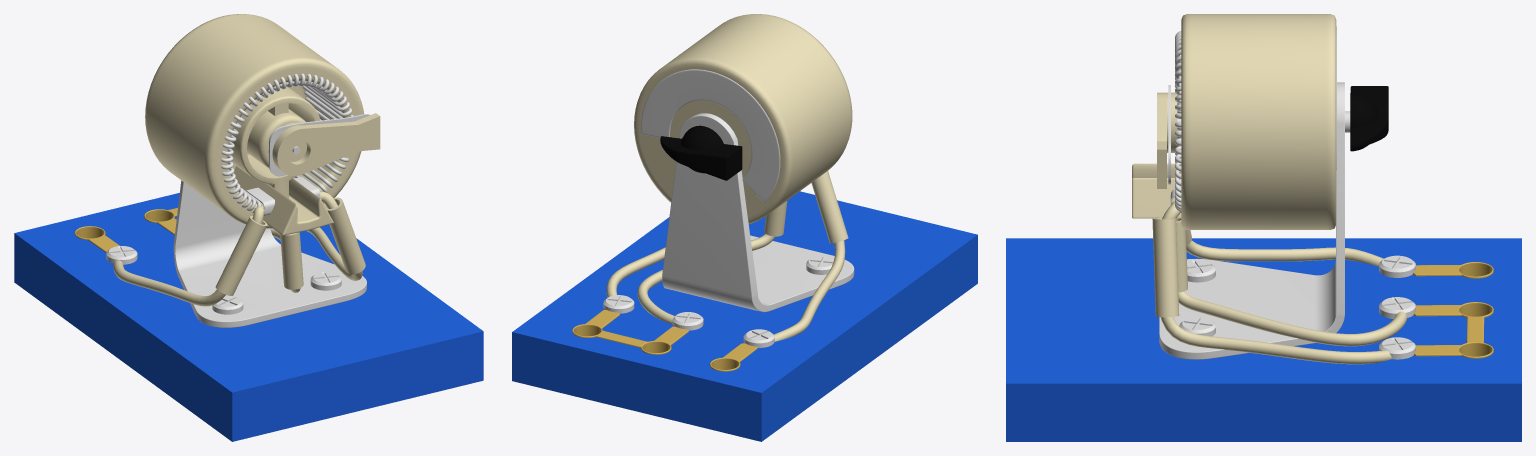
File: ResistanceBox.fbx
The picture shows the model from 3 angles, left to right: view 1: azimuth 30°, elevation 25°; view 2: azimuth 150°, elevation 25°; view 3: azimuth 270°, elevation 25°; orthographic projection. The views are drawn at different scales.
Visible parts, largest first — view 1: Cutter.002_Plate.008, Cube.007, Cylinder.027; view 2: Cutter.002_Plate.008, Cube.007, Cylinder.021, Cylinder.027; view 3: Cutter.002_Plate.008, Cube.007, Cylinder.027.
Boxes of the visible parts, left/top/right/bottom form: Cutter.002_Plate.008: left=14, top=193, right=483, bottom=441; Cube.007: left=113, top=14, right=366, bottom=327; Cylinder.027: left=268, top=113, right=380, bottom=176; Cutter.002_Plate.008: left=512, top=191, right=977, bottom=441; Cube.007: left=606, top=14, right=854, bottom=341; Cylinder.021: left=641, top=69, right=780, bottom=202; Cylinder.027: left=660, top=125, right=742, bottom=180; Cutter.002_Plate.008: left=1006, top=238, right=1521, bottom=441; Cube.007: left=1132, top=14, right=1407, bottom=364; Cylinder.027: left=1157, top=85, right=1388, bottom=188.
Size of the model in its own units: 133 by 149 by 200.
